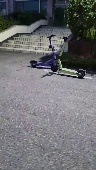beam: (29, 31, 56, 70)
gcooter: (53, 33, 87, 81)
